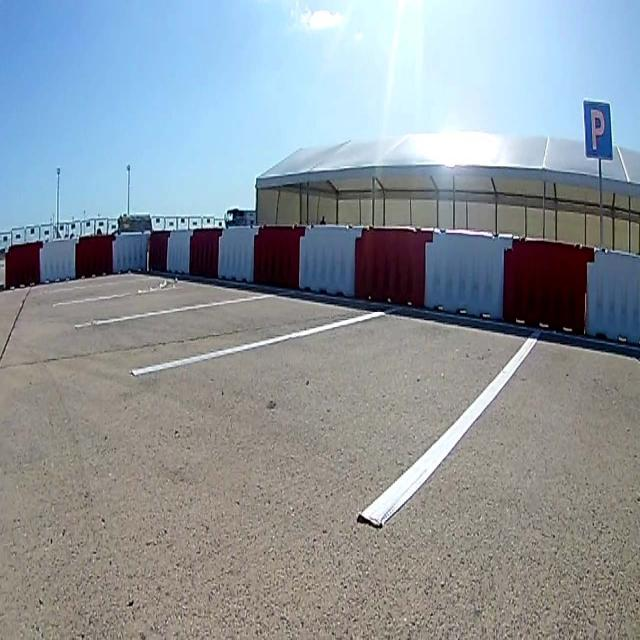park: (582, 99, 614, 162)
